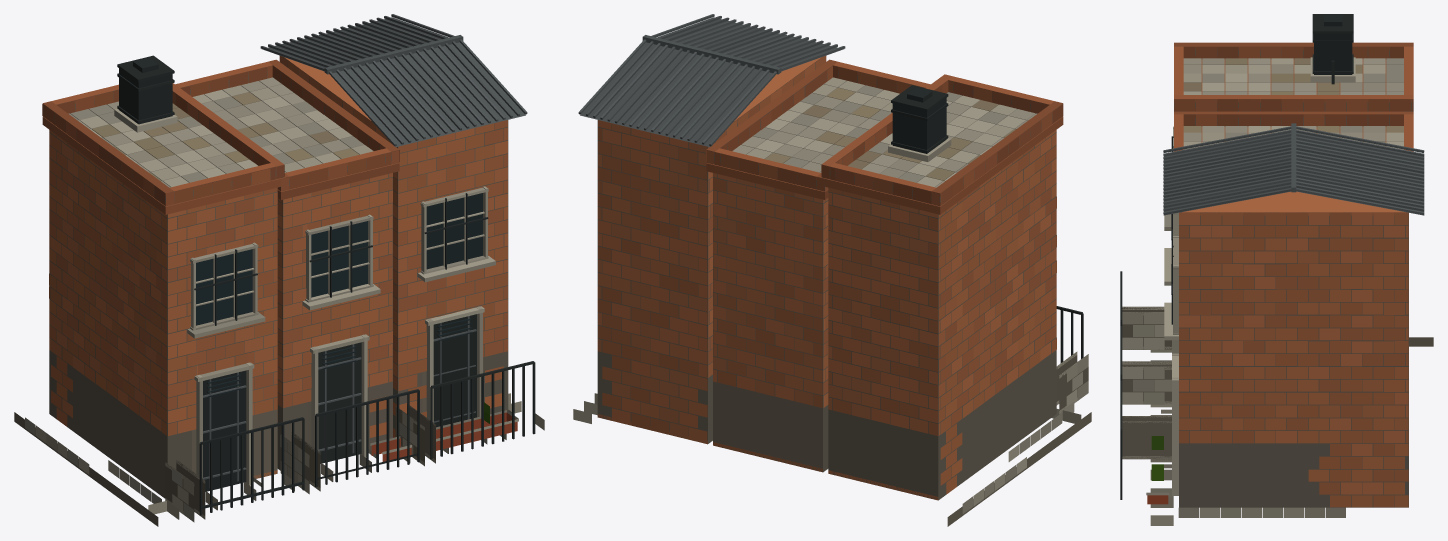
File: SM_StreetFrontage_104.fbx
3 views of the same model, side by side, from view 1: azimuth 30°, elevation 25°; view 2: azimuth 150°, elevation 25°; view 3: azimuth 270°, elevation 25° (orthographic). The views are drawn at different scales.
Parts seen in each view (by area): view 1: SM_StreetFrontage_104; view 2: SM_StreetFrontage_104; view 3: SM_StreetFrontage_104.
Part boxes in pixels (x1,y1,x2,y2): SM_StreetFrontage_104: (14, 14, 544, 526); SM_StreetFrontage_104: (573, 14, 1091, 526); SM_StreetFrontage_104: (1120, 14, 1433, 525).
Size of the model in its own units: 7.94 by 5.69 by 7.34.
